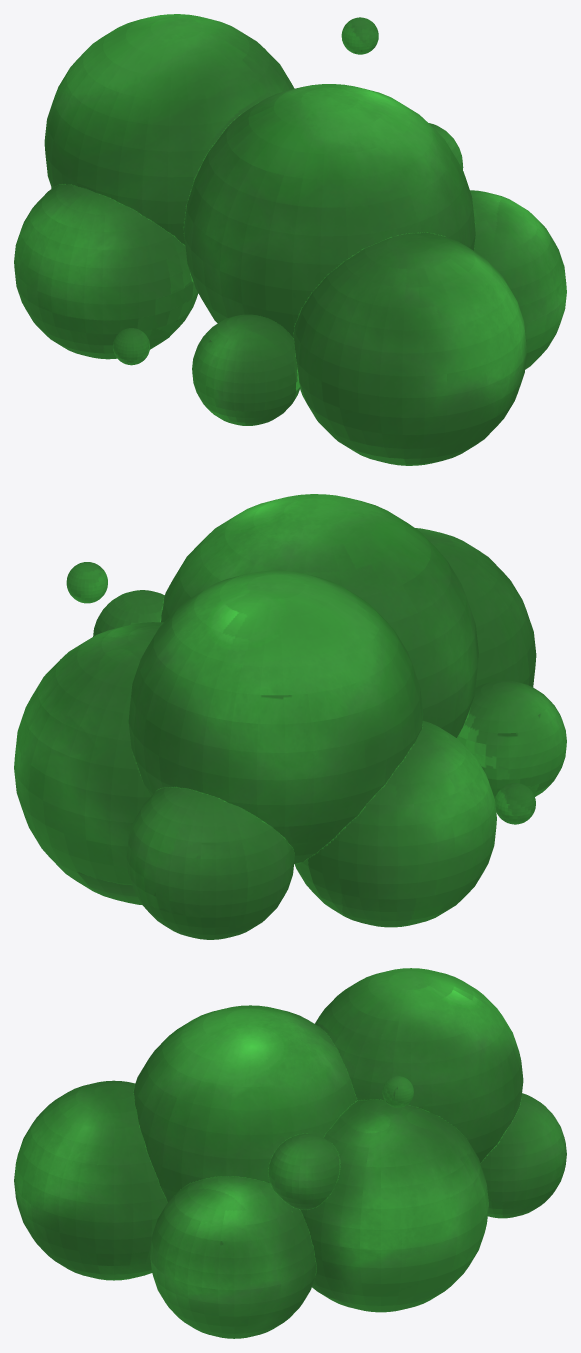
Rendered from Moss.glb.
3 renders of one model, top to bottom at view 1: azimuth 30°, elevation 25°; view 2: azimuth 150°, elevation 25°; view 3: azimuth 270°, elevation 25°, orthographic. The views are drawn at different scales.
Parts seen in each view (by area): view 1: Sphere.003; view 2: Sphere.003; view 3: Sphere.003.
Boxes of the visible parts, x1,y1,x2,y2 form: Sphere.003: (14,14,566,465); Sphere.003: (14,494,566,939); Sphere.003: (14,968,566,1338).
Size of the model in its own units: 2.07 by 1.44 by 2.64.
Materials: 1 (1 with a texture image).
